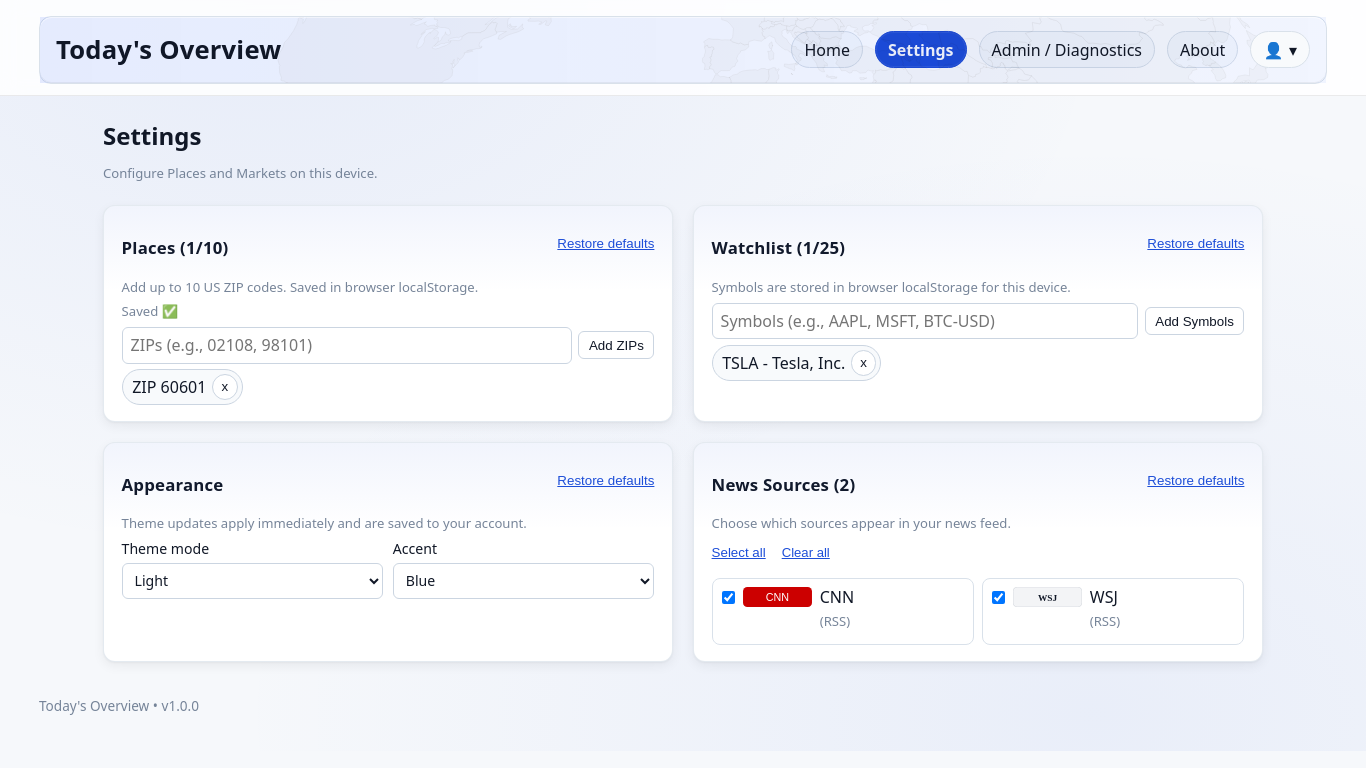
it: App › restores defaults per card without resetting the other section
Expected: the text "ZIP 60601" is shown, [132,376,206,398]
Click the button "Restore defaults" in the row of "/10)" at x=606, y=244, box [557,236,654,251]
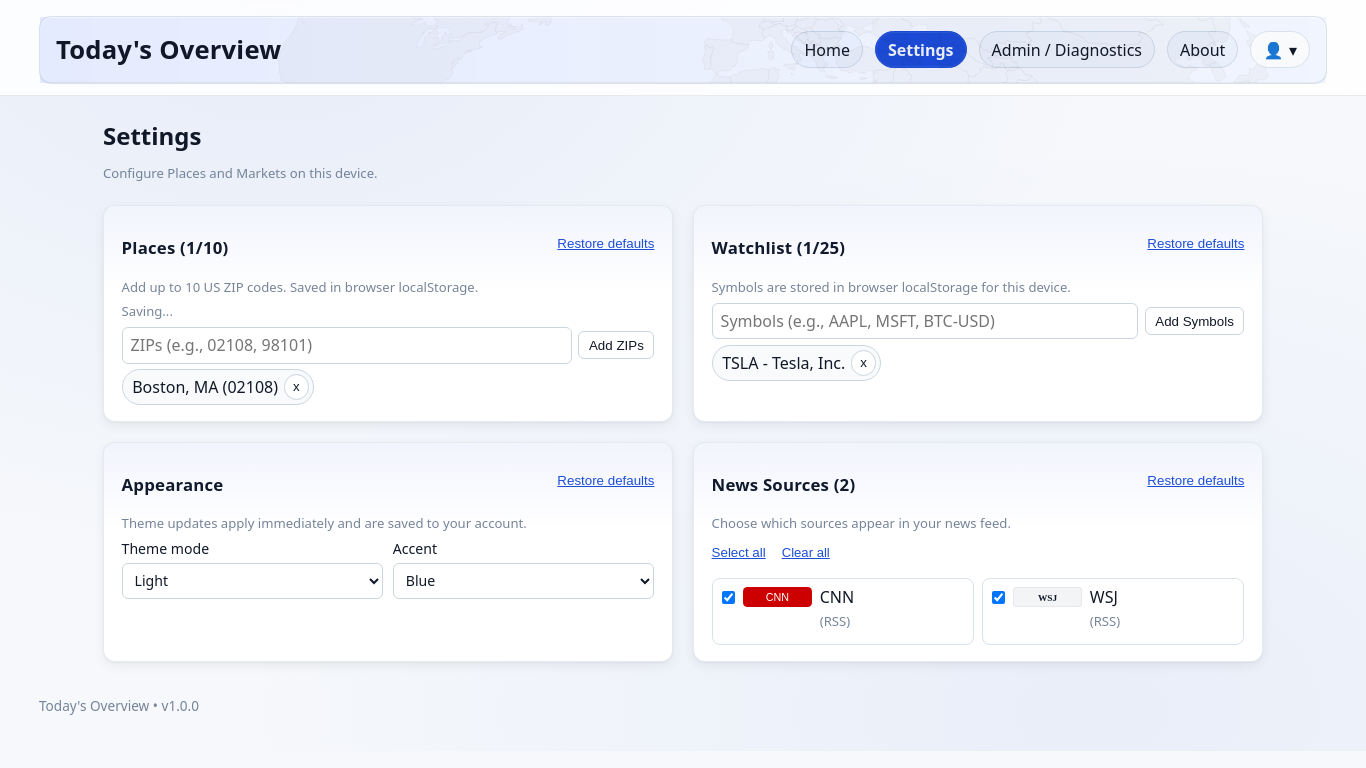
Expected: the text "TSLA - Tesla, Inc." is shown, [722,352,845,374]
Result: the text "Boston, MA (02108)" is shown at [132,376,278,398]
Click the button "Restore defaults" in the row of "25" at x=1196, y=244, box [1147,236,1244,251]
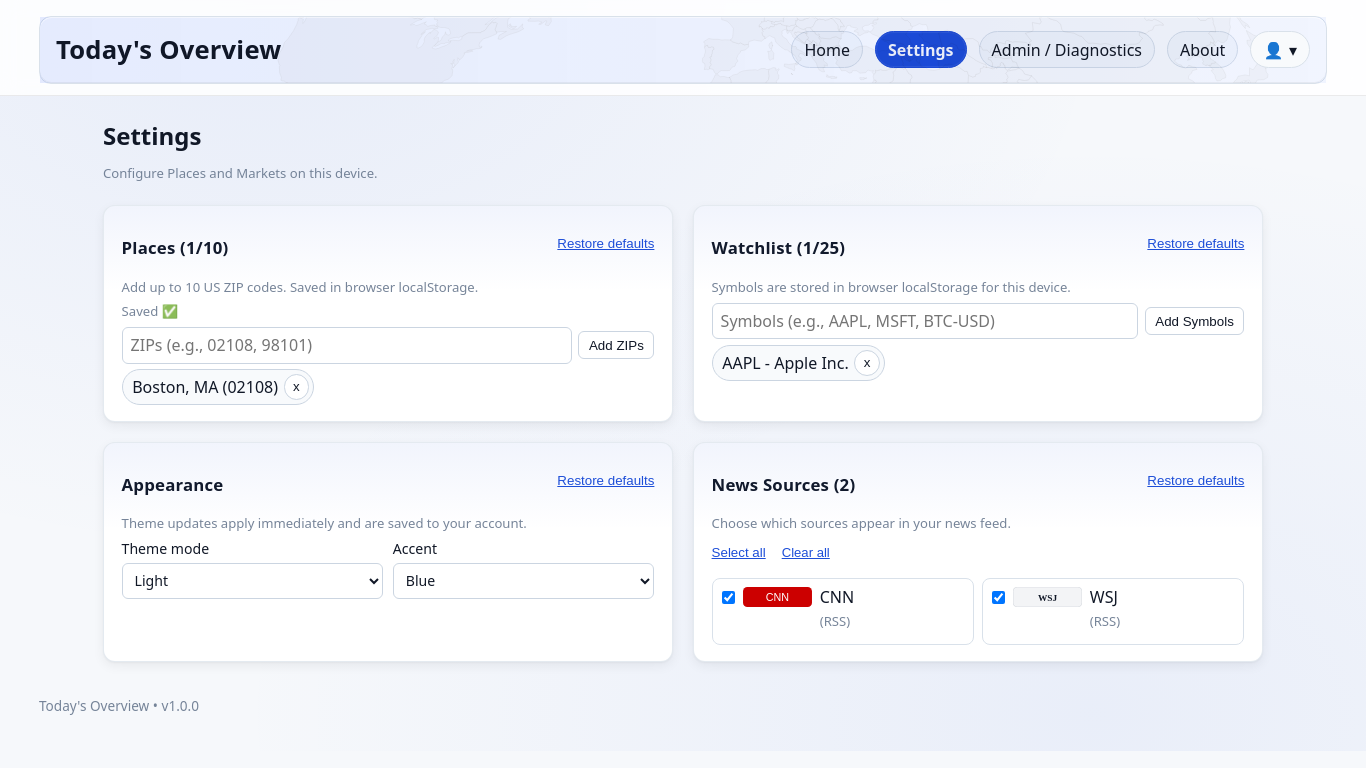
Result: the text "AAPL - Apple Inc." is shown at [722,352,849,374]
